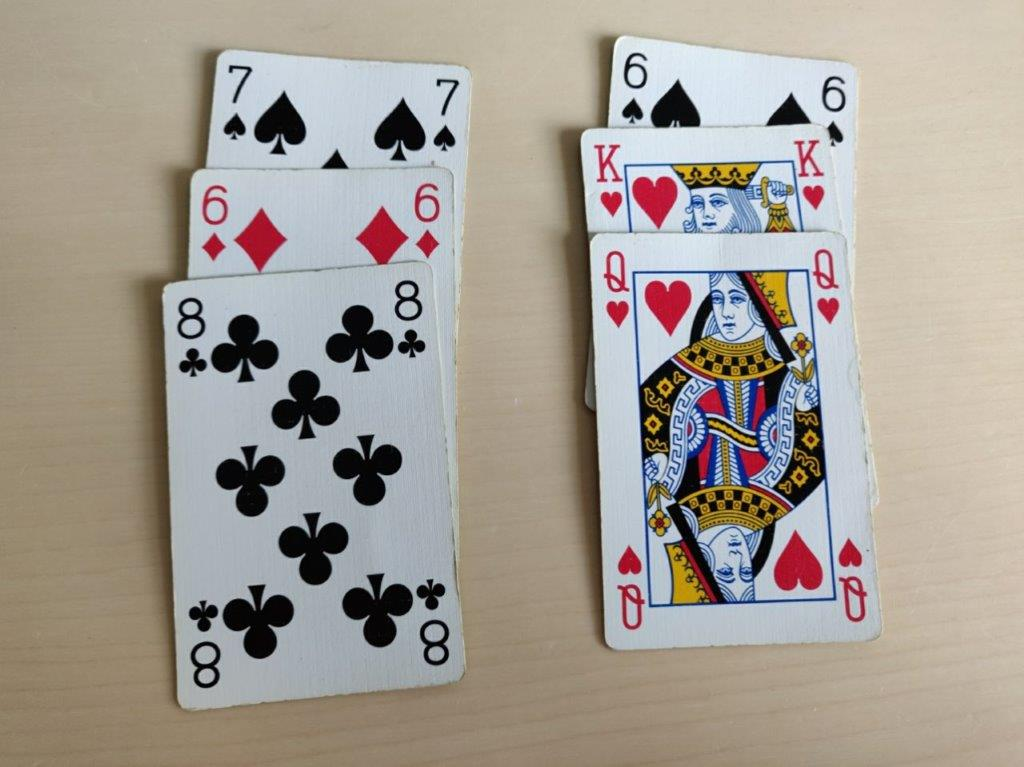6D: (196, 178, 232, 263), (410, 177, 443, 262)
6S: (612, 43, 652, 125)
7S: (217, 56, 256, 144), (427, 71, 463, 156)
8C: (169, 290, 213, 385), (389, 277, 431, 364)
KH: (789, 133, 829, 213), (590, 138, 628, 218)
QH: (804, 243, 847, 326), (599, 245, 635, 333)
